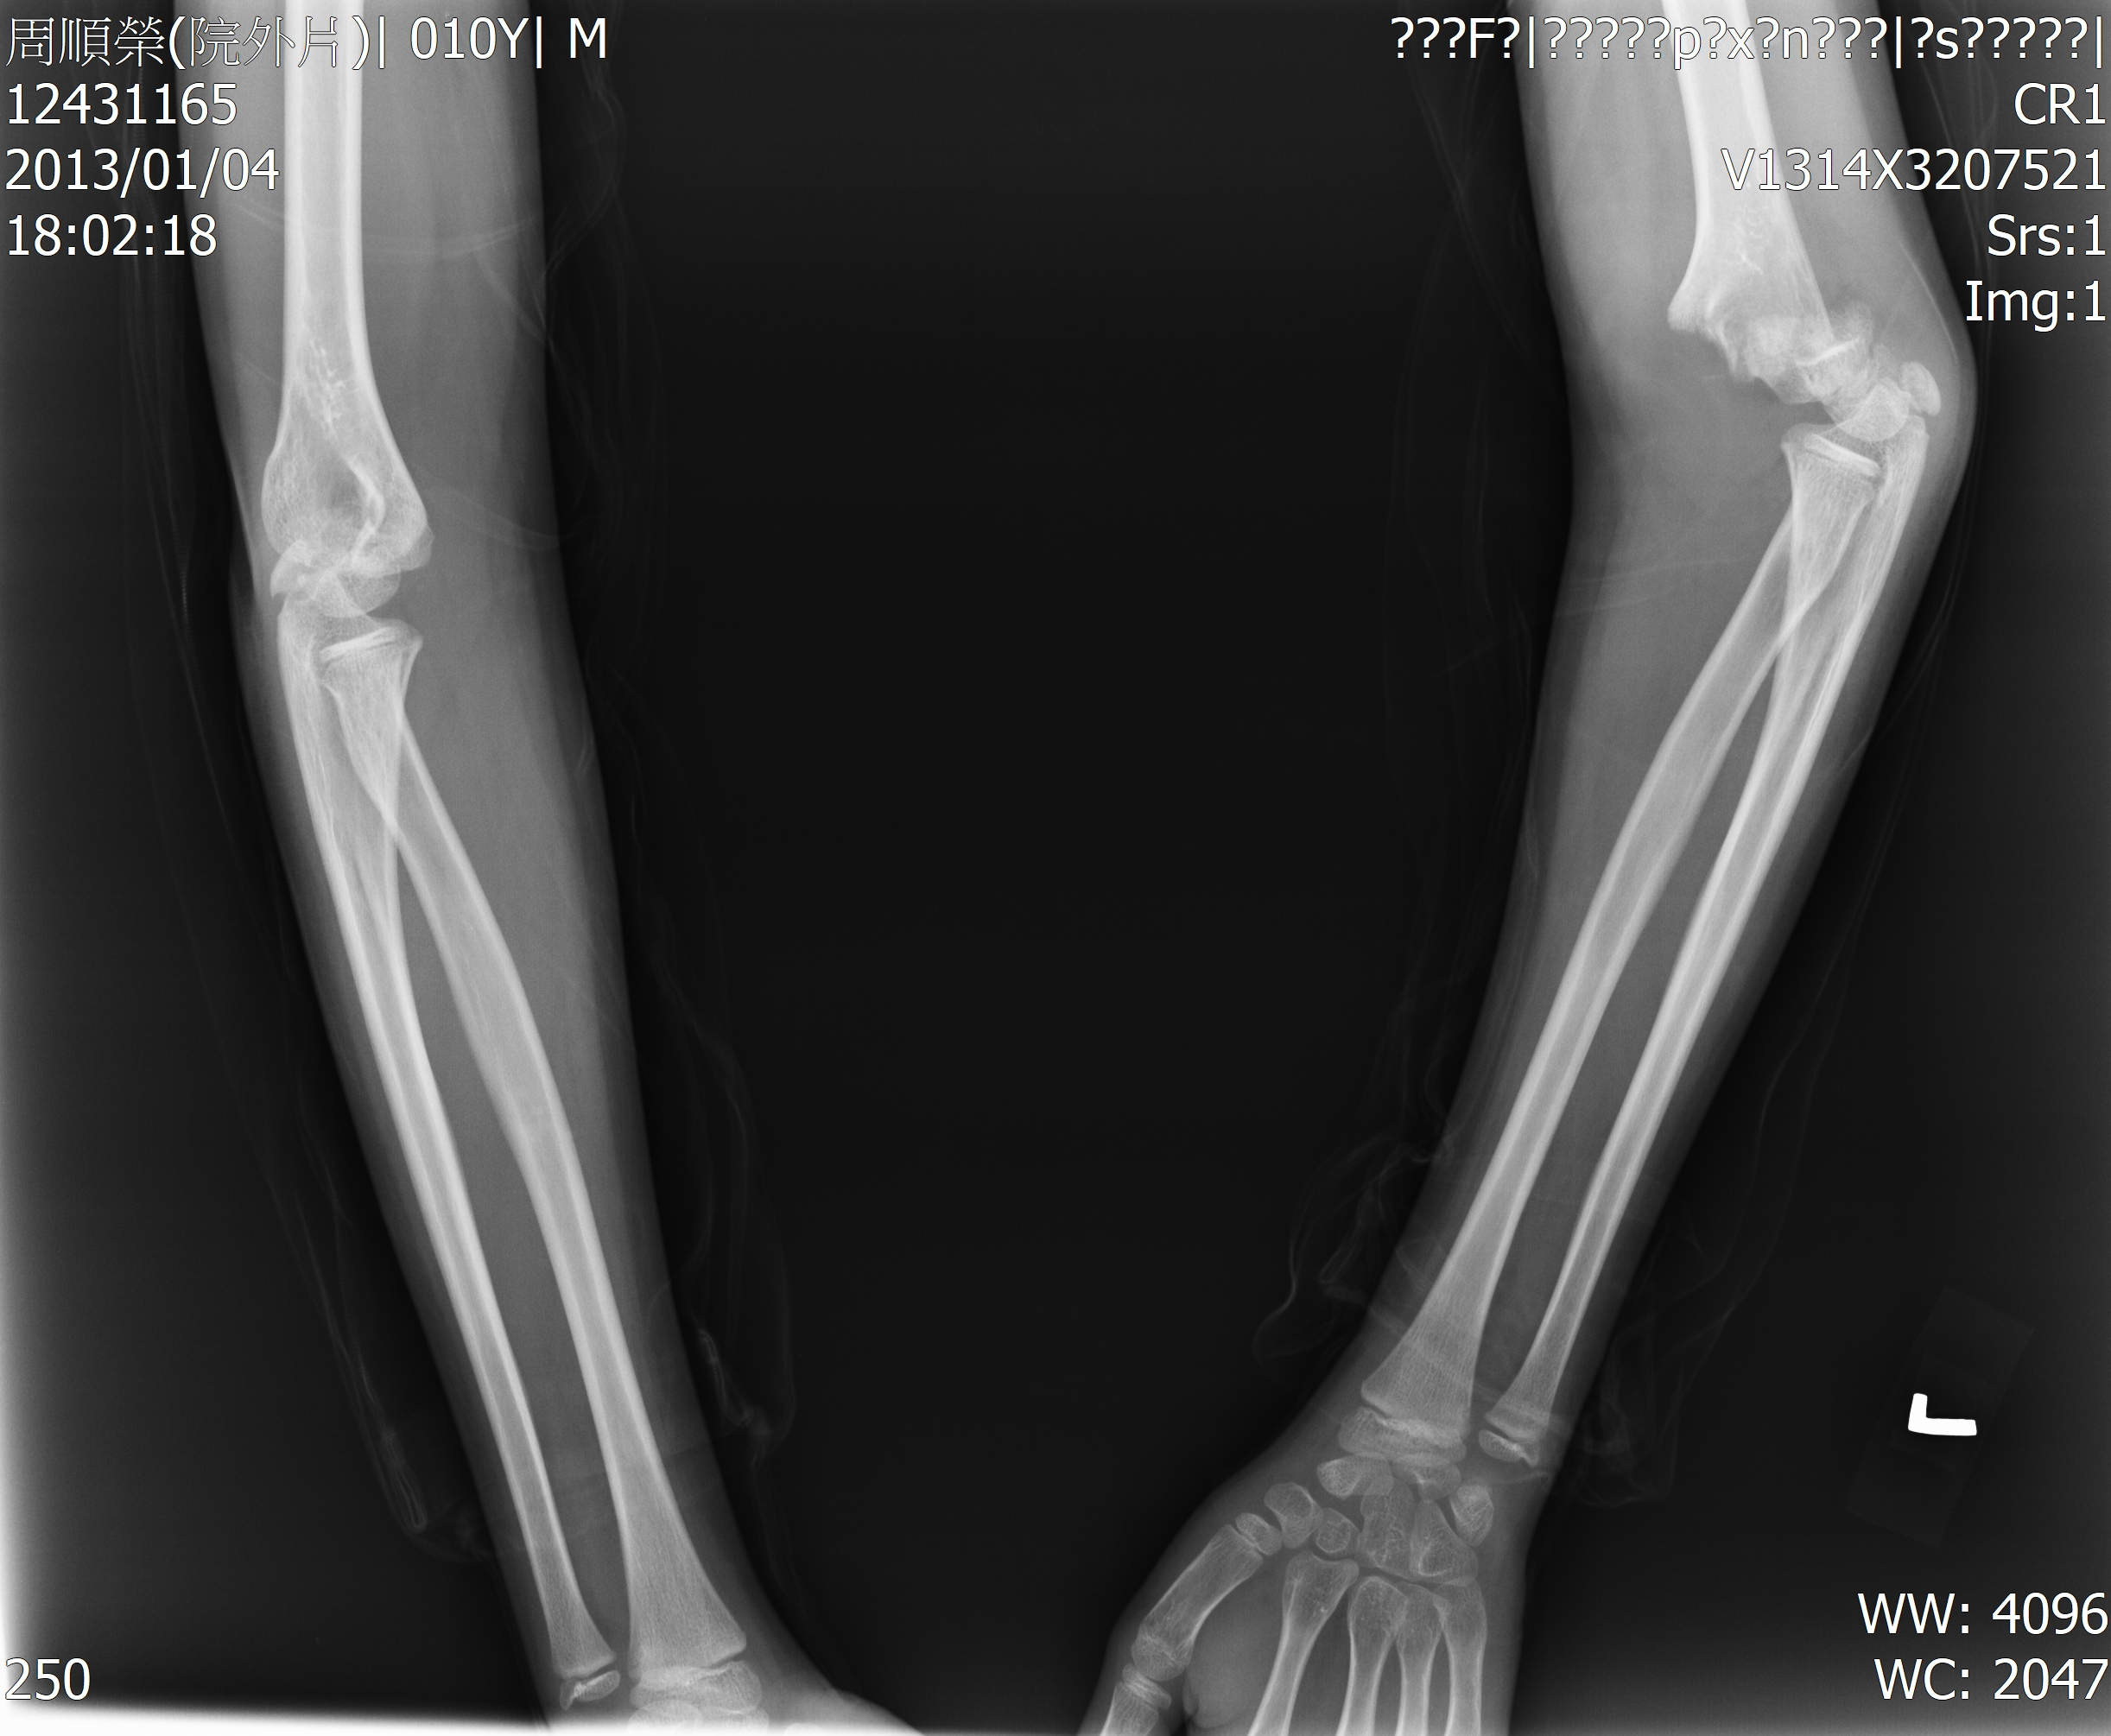Normal: (95, 361, 647, 898)
SCF type 3: (1555, 153, 2076, 751)
